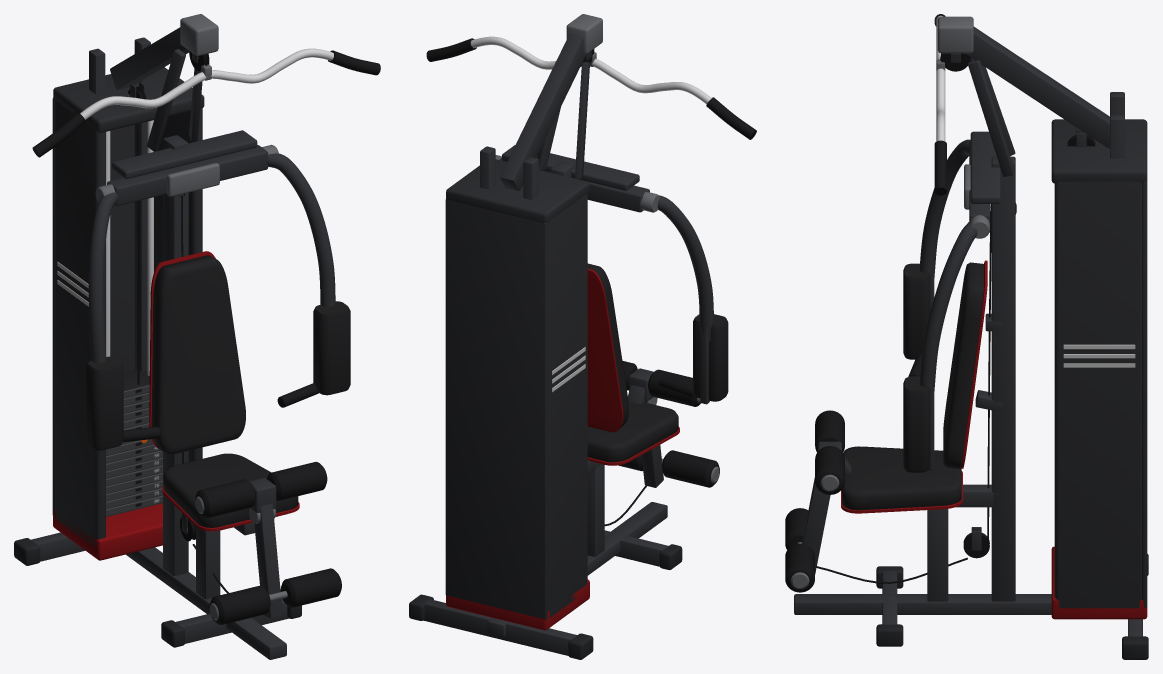
The model's file is sala-attrezzata.glb.
3 views of the same model, side by side, from view 1: azimuth 30°, elevation 25°; view 2: azimuth 150°, elevation 25°; view 3: azimuth 270°, elevation 25° (orthographic). The views are drawn at different scales.
Visible parts, largest first — view 1: telaio, carter, imbottitura, schiuma, g_pesi, rosso scuro, cromo, telaio chiaro, nero, gomma; view 2: carter, telaio, imbottitura, rosso scuro, schiuma, cromo, telaio chiaro, gomma; view 3: carter, telaio, imbottitura, schiuma, rosso scuro, telaio chiaro, nero, gomma, bianco riga, cromo.
Part boxes in pixels (bbox=[...]): telaio: bbox=[31, 27, 335, 659]; carter: bbox=[52, 67, 204, 546]; imbottitura: bbox=[86, 255, 350, 530]; schiuma: bbox=[32, 50, 380, 624]; g_pesi: bbox=[106, 385, 162, 516]; rosso scuro: bbox=[53, 251, 299, 560]; cromo: bbox=[80, 48, 333, 375]; telaio chiaro: bbox=[95, 14, 287, 620]; nero: bbox=[128, 51, 228, 593]; gomma: bbox=[14, 538, 301, 647]; carter: bbox=[445, 159, 589, 620]; telaio: bbox=[423, 33, 713, 655]; imbottitura: bbox=[587, 263, 728, 465]; rosso scuro: bbox=[446, 269, 679, 630]; schiuma: bbox=[426, 38, 756, 487]; cromo: bbox=[471, 36, 711, 104]; telaio chiaro: bbox=[495, 14, 719, 483]; gomma: bbox=[409, 544, 682, 659]; carter: bbox=[1051, 119, 1147, 608]; telaio: bbox=[794, 26, 1142, 636]; imbottitura: bbox=[842, 262, 983, 510]; schiuma: bbox=[785, 14, 946, 592]; rosso scuro: bbox=[841, 260, 1147, 619]; telaio chiaro: bbox=[791, 16, 989, 588]; nero: bbox=[816, 53, 1095, 583]; gomma: bbox=[876, 554, 1148, 659]; bianco riga: bbox=[1063, 344, 1135, 367]; cromo: bbox=[936, 15, 945, 141].
Size of the model in its own units: 1.36 by 2.2 by 1.22.
Materials: 12 (1 with a texture image).
